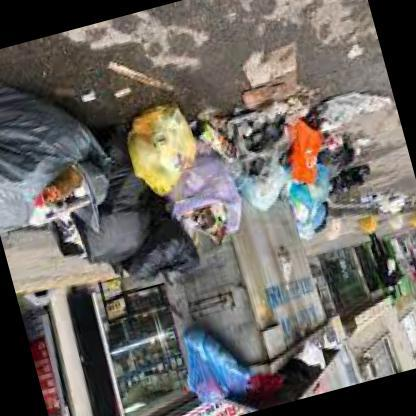Garbage: (0, 52, 121, 244), (28, 120, 163, 274), (261, 87, 351, 202), (116, 95, 208, 202), (175, 312, 250, 414), (168, 160, 245, 254), (228, 132, 298, 224), (222, 71, 310, 141), (122, 224, 200, 300), (187, 90, 247, 179), (282, 103, 338, 187), (284, 172, 332, 243), (301, 112, 356, 162), (332, 160, 372, 204), (288, 342, 330, 374), (245, 368, 282, 402)
